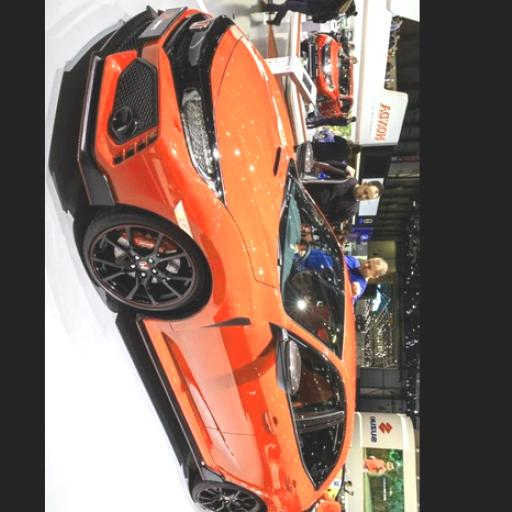car: (302, 34, 353, 118), (313, 129, 334, 143), (314, 20, 337, 31)
sedan: (78, 9, 355, 512)
